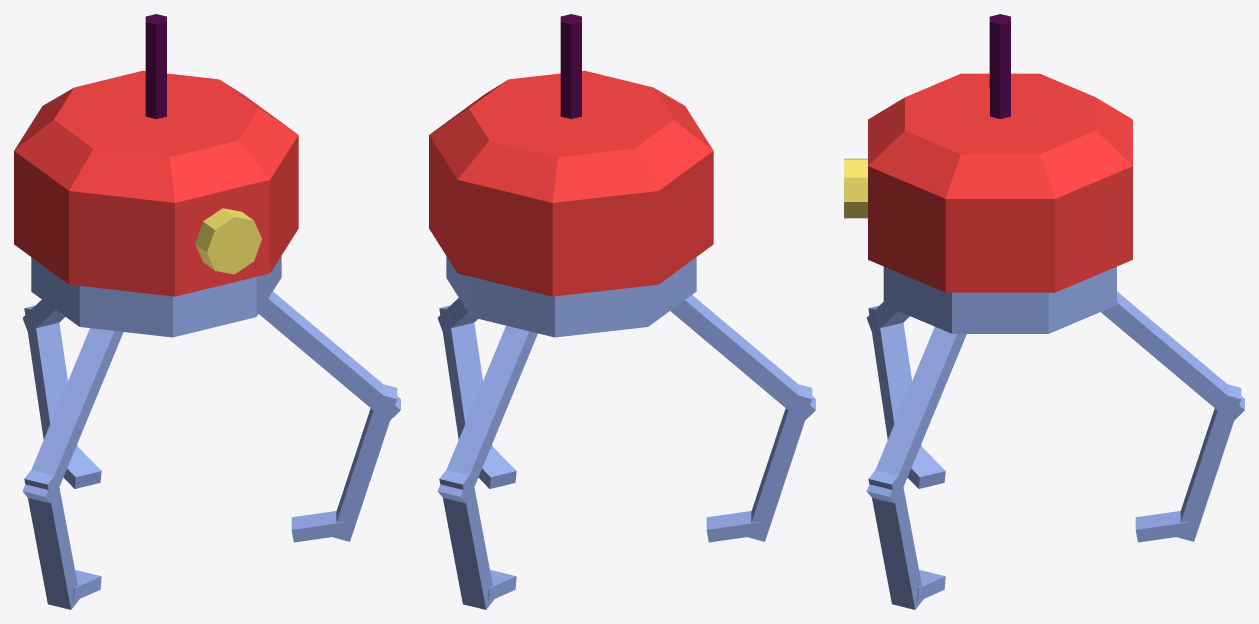
Rendered from claw.glb.
The picture shows the model from 3 angles, left to right: view 1: azimuth 30°, elevation 25°; view 2: azimuth 150°, elevation 25°; view 3: azimuth 270°, elevation 25°; orthographic projection.
Visible parts, largest first — view 1: HubTop, Hub, ProngL, Collar, ProngR, ProngB, Lamp, Cable; view 2: Hub, HubTop, ProngB, Collar, ProngL, ProngR, Cable; view 3: HubTop, Hub, ProngR, Collar, ProngB, ProngL, Cable, Lamp.
Part boxes in pixels (bbox=[...]): HubTop: bbox=[14, 70, 298, 202]; Hub: bbox=[14, 135, 298, 296]; ProngL: bbox=[22, 328, 123, 609]; Collar: bbox=[31, 256, 281, 337]; ProngR: bbox=[258, 291, 400, 542]; ProngB: bbox=[22, 300, 101, 488]; Lamp: bbox=[195, 208, 261, 274]; Cable: bbox=[145, 14, 166, 118]; Hub: bbox=[429, 135, 713, 296]; HubTop: bbox=[429, 70, 713, 202]; ProngB: bbox=[437, 325, 537, 609]; Collar: bbox=[446, 256, 696, 337]; ProngL: bbox=[670, 295, 815, 542]; ProngR: bbox=[437, 298, 516, 488]; Cable: bbox=[560, 14, 581, 118]; HubTop: bbox=[868, 73, 1132, 198]; Hub: bbox=[868, 166, 1132, 292]; ProngR: bbox=[866, 327, 966, 609]; Collar: bbox=[883, 266, 1116, 333]; ProngB: bbox=[1101, 291, 1244, 542]; ProngL: bbox=[866, 302, 945, 488]; Cable: bbox=[989, 14, 1010, 118]; Lamp: bbox=[844, 158, 867, 218].
Bounding box in the file's own units: 0.824 × 1.08 × 0.7561.
